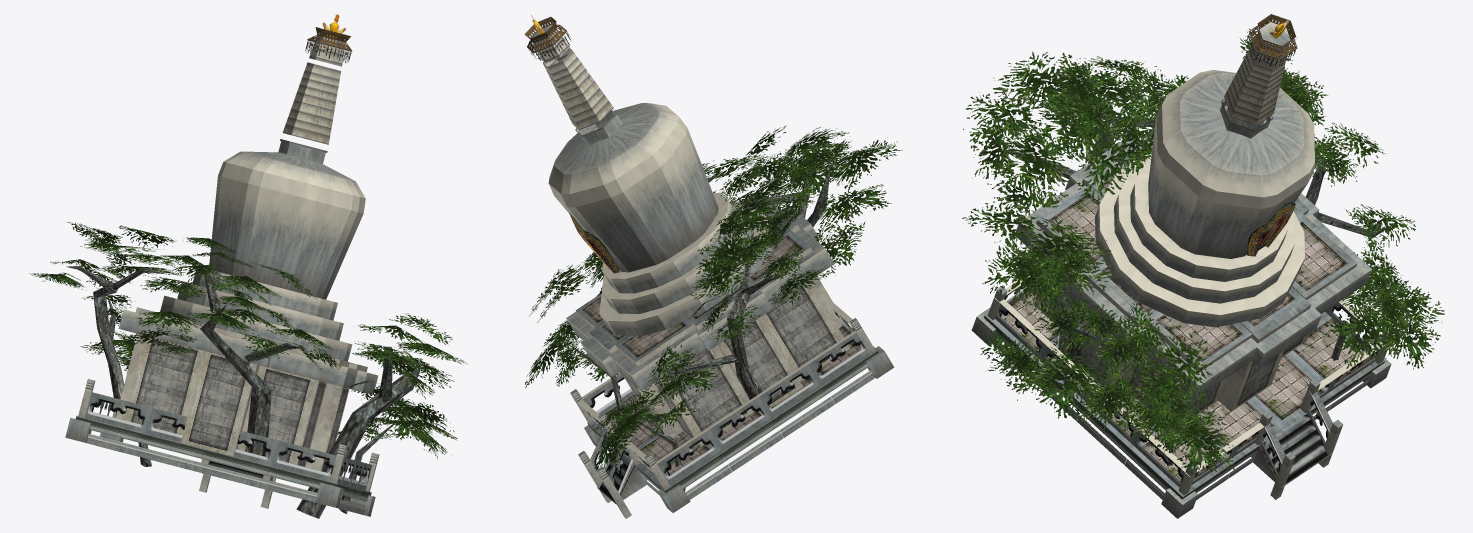
Rendered from white_pagoda.fbx.
3 views of the same model, side by side, from view 1: azimuth 30°, elevation 25°; view 2: azimuth 150°, elevation 25°; view 3: azimuth 270°, elevation 25° (orthographic). The views are drawn at different scales.
Visible parts, largest first — view 1: Object01, Object02, Object03; view 2: Object01, Object02, Object03; view 3: Object01, Object02, Object03.
Boxes of the visible parts, box(x1,y1,x2,y2) form: Object01: box(65, 14, 379, 516); Object02: box(29, 222, 467, 518); Object03: box(75, 35, 371, 514); Object01: box(524, 15, 894, 518); Object02: box(525, 125, 902, 491); Object03: box(532, 29, 878, 499); Object01: box(971, 14, 1391, 518); Object02: box(962, 28, 1444, 475); Object03: box(984, 31, 1384, 500).
Bounding box in the file's own units: 12.82 × 13.66 × 15.16.
Materials: 2 (2 with a texture image).
